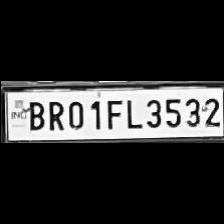0: (64, 98, 84, 132)
1: (85, 97, 103, 131)
2: (201, 94, 221, 128)
3: (141, 96, 161, 128), (182, 96, 200, 128)
5: (162, 94, 182, 128)
B: (23, 98, 44, 132)
F: (102, 96, 122, 130)
L: (122, 95, 142, 129)
R: (44, 98, 64, 132)
